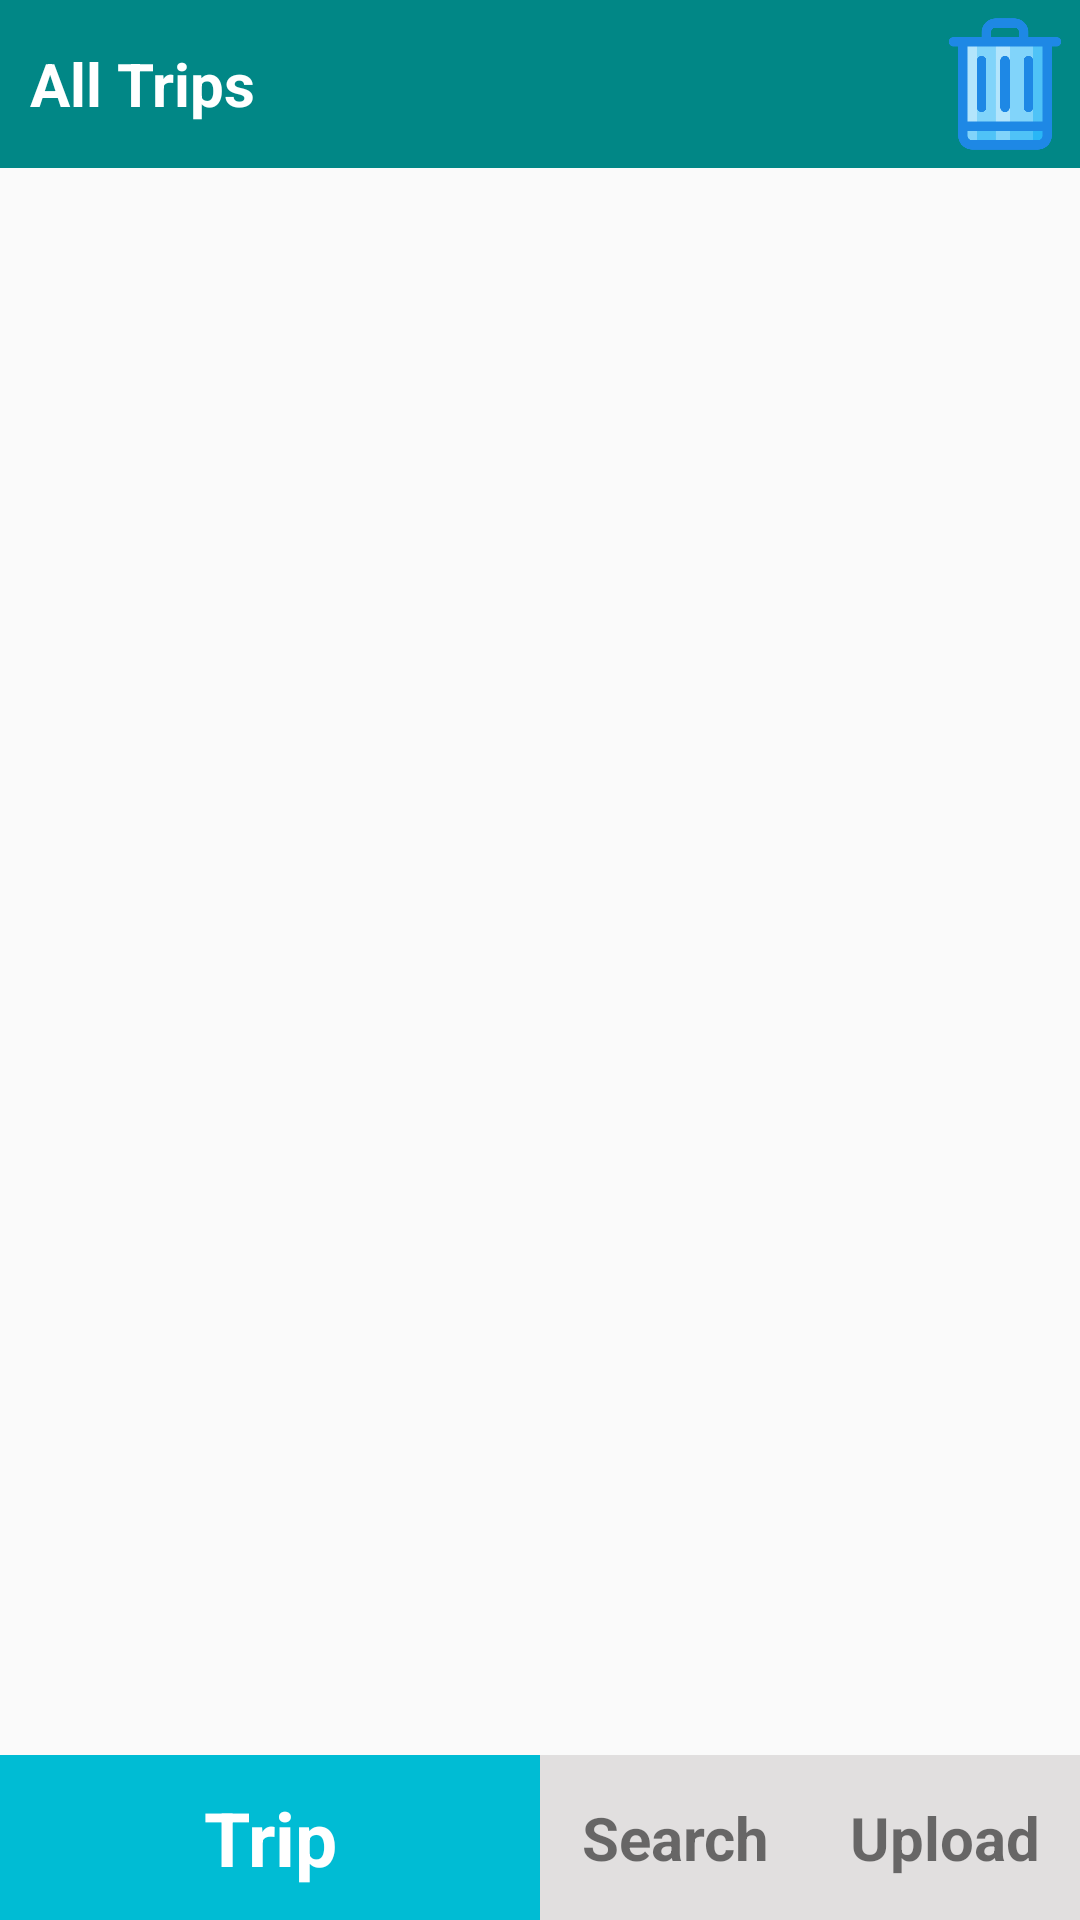

Screen size 1080×1920. Icon name, then its box in pixels as (x1, y1, x2, y2):
delete: (949, 18, 1061, 150)
